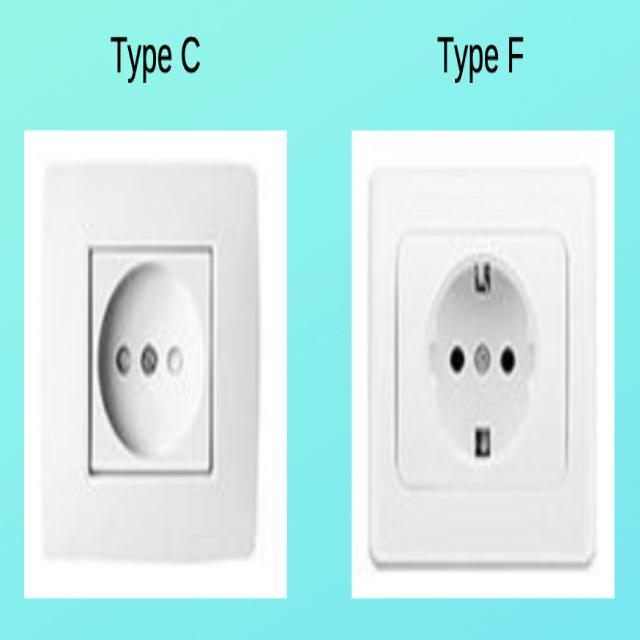typeb: (348, 115, 609, 590)
